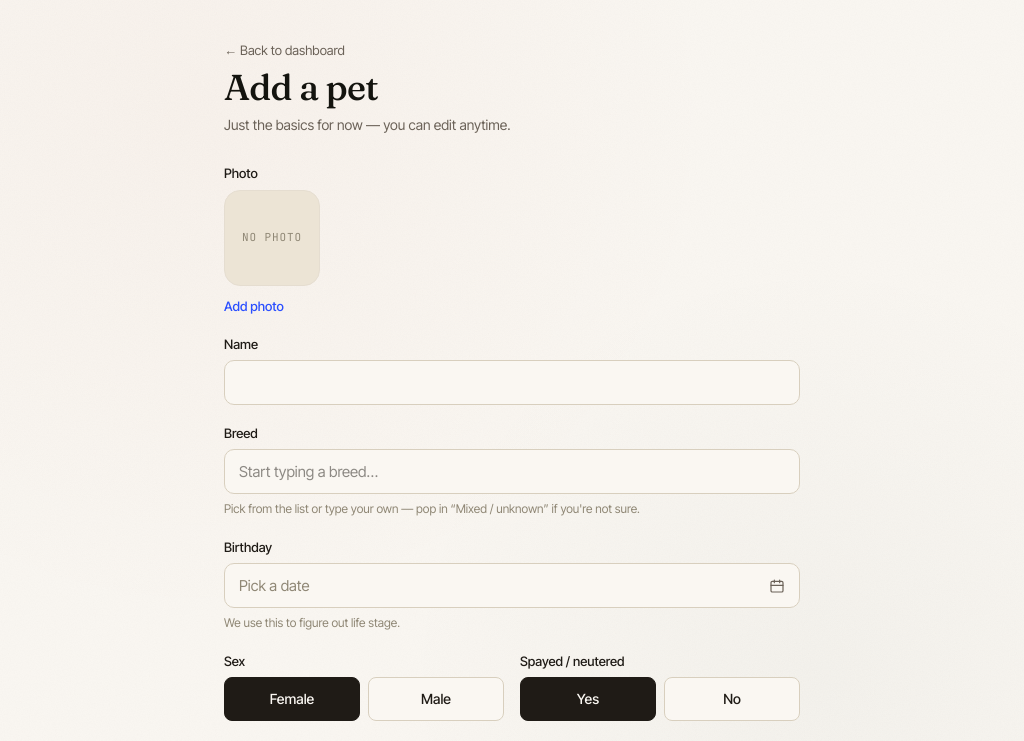
Test: PetForm — create mode › surfaces a friendly error on 422 validation failure
Type "Luna" into the field labelled "Name" at [512, 382], box [224, 360, 800, 405]
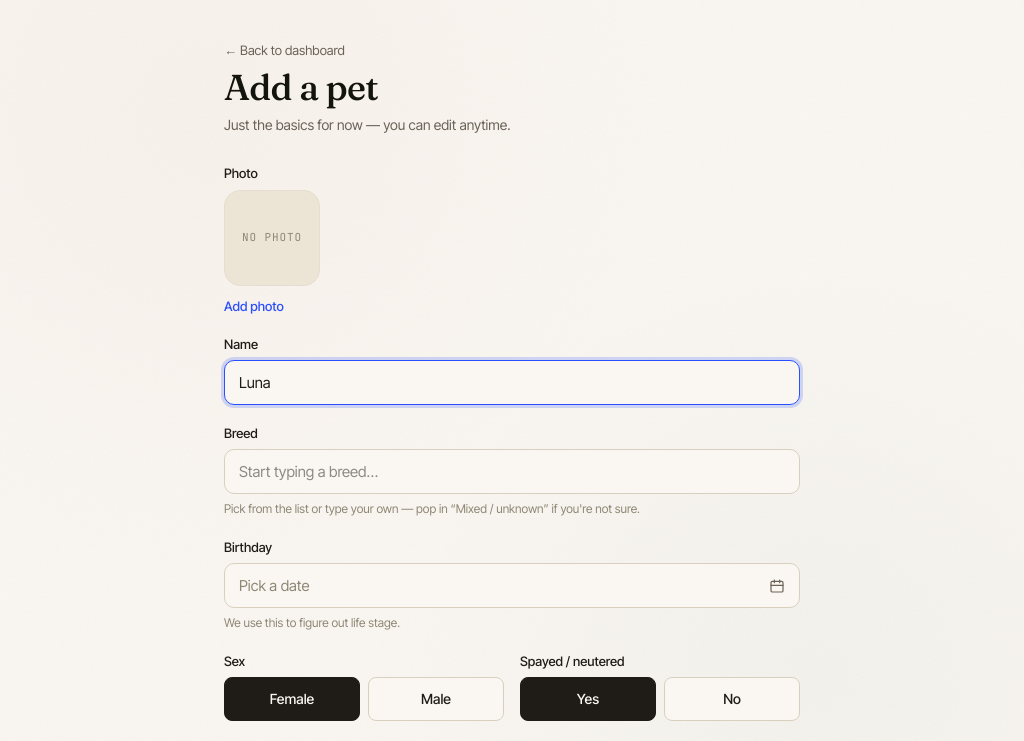
Click the button named "birthday" at [274, 586], box [224, 563, 800, 608]
(page scrolled)
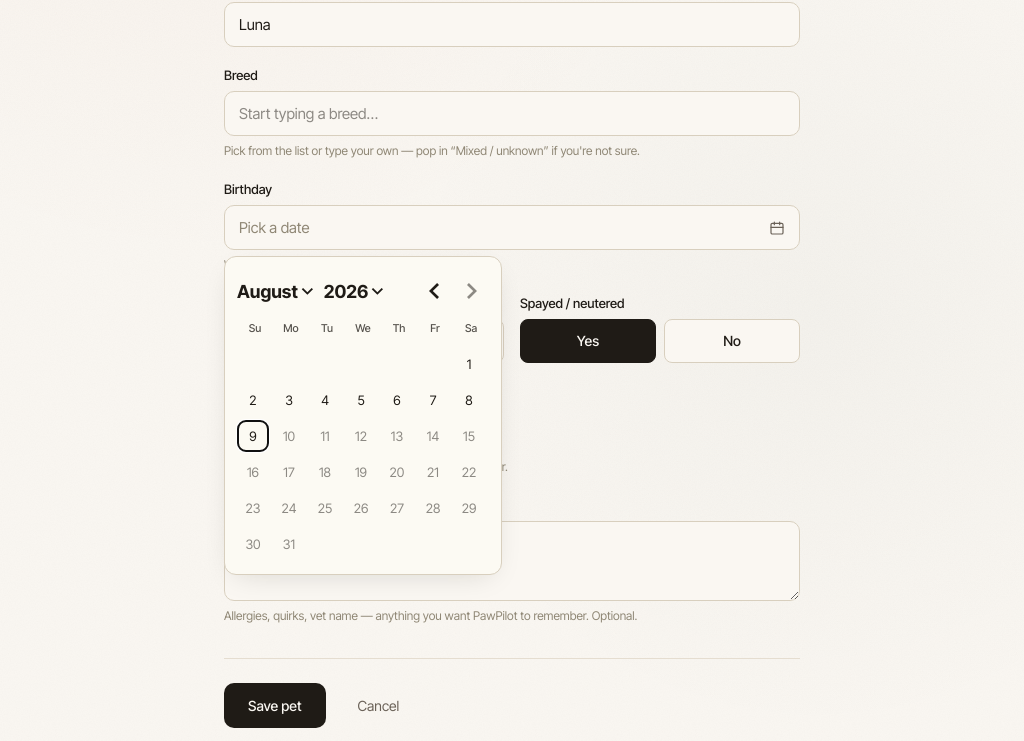
Click the button "1" at [469, 364], box [453, 348, 485, 380]
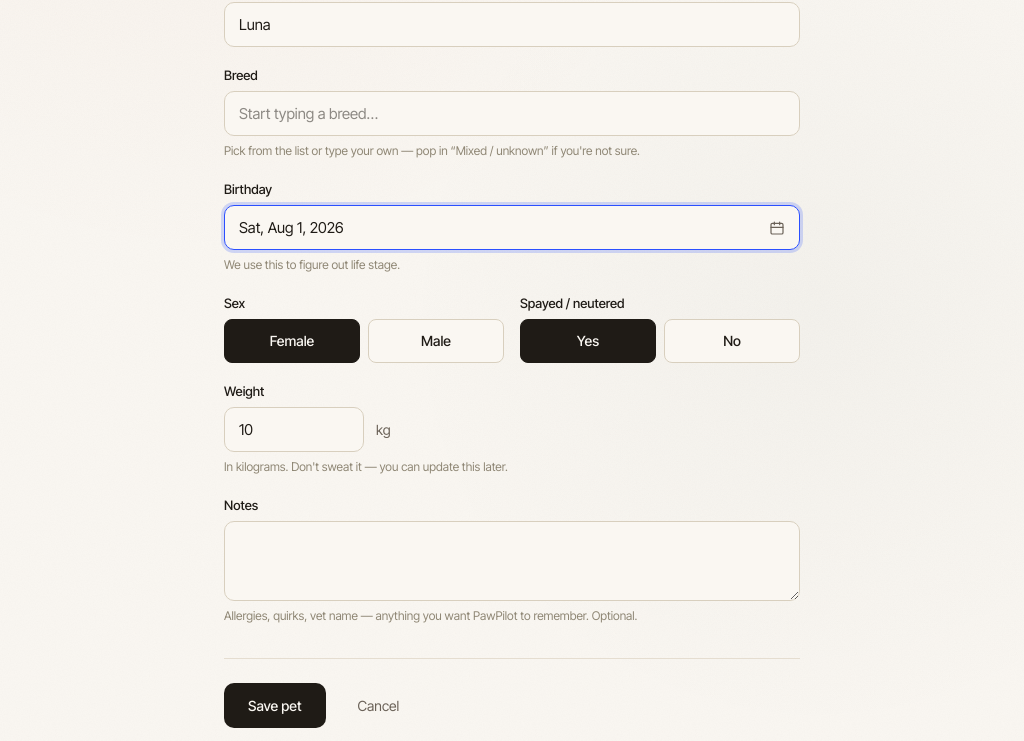
Click the button "Save pet" at [275, 705], box [224, 683, 326, 728]
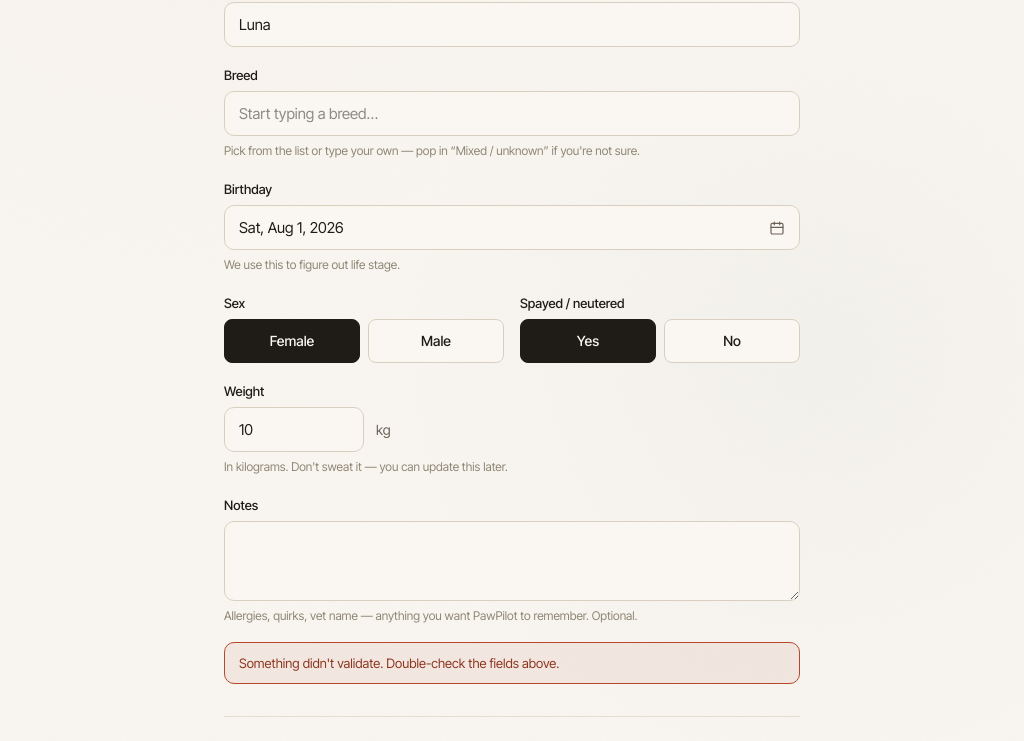
Expected: the message shows "didn't validate", [239, 655, 559, 671]
